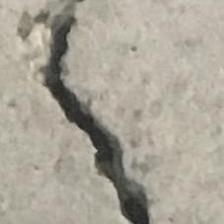Crack: (27, 0, 193, 224)
